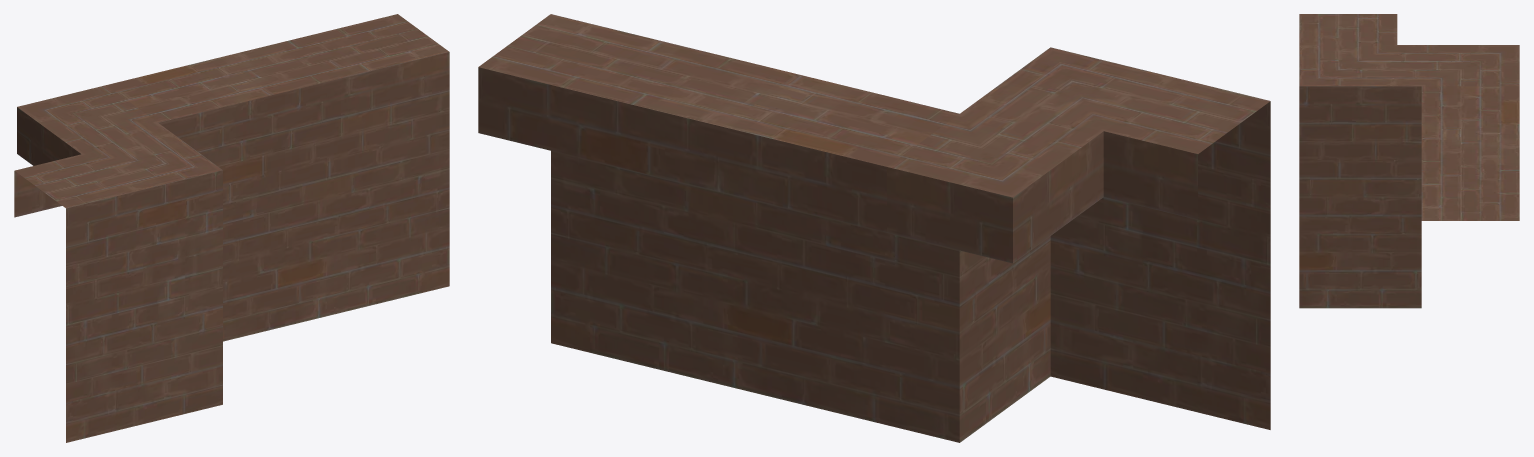
File: Cornice_Brick_90Angle_L.glb
3 views of the same model, side by side, from view 1: azimuth 30°, elevation 25°; view 2: azimuth 150°, elevation 25°; view 3: azimuth 270°, elevation 25° (orthographic). The views are drawn at different scales.
Parts seen in each view (by area): view 1: Cornice_Brick_90Angle_L; view 2: Cornice_Brick_90Angle_L; view 3: Cornice_Brick_90Angle_L.
Boxes of the visible parts, x1,y1,x2,y2 form: Cornice_Brick_90Angle_L: (14, 14, 449, 442); Cornice_Brick_90Angle_L: (478, 14, 1270, 442); Cornice_Brick_90Angle_L: (1299, 14, 1519, 308).
Size of the model in its own units: 2 by 1 by 0.9.
Materials: 1 (1 with a texture image).
